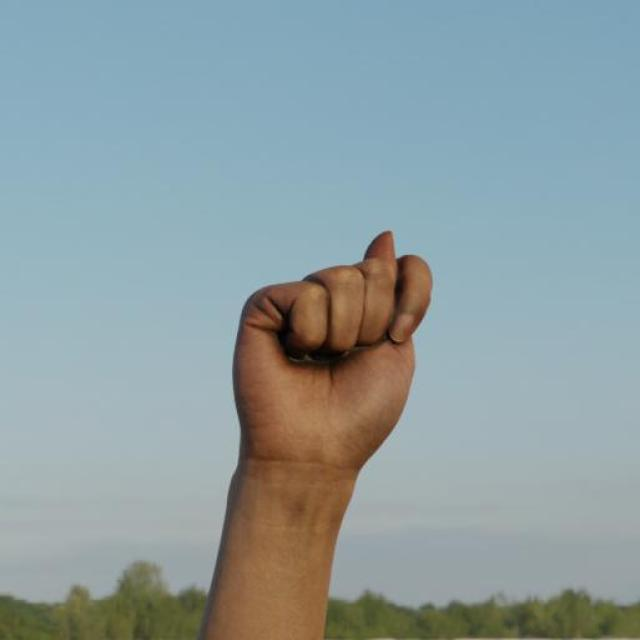T: (224, 223, 437, 472)
